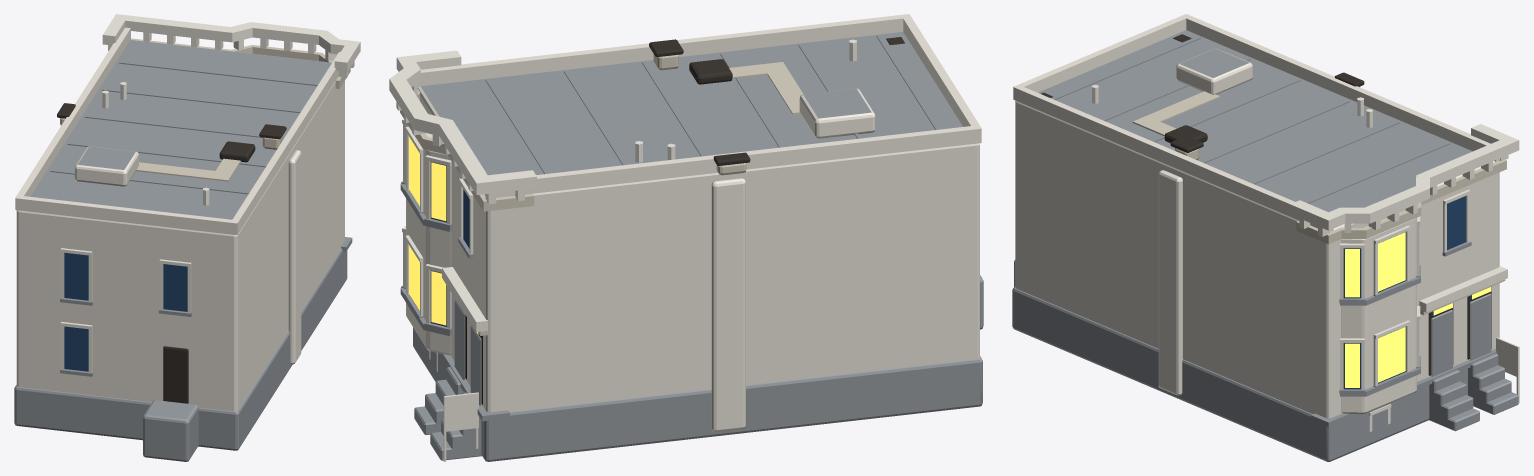
The model's file is mid.glb.
3 views of the same model, side by side, from view 1: azimuth 30°, elevation 25°; view 2: azimuth 150°, elevation 25°; view 3: azimuth 270°, elevation 25° (orthographic). The views are drawn at different scales.
Visible parts, largest first — view 1: grp_Toy_cream_Toy_steel, grp_Toy_steel, grp_Toy_cream, grp_Toy_trim, grp_Toy_glass, grp_Toy_ink, grp_Toy_stone; view 2: grp_Toy_cream_Toy_steel, grp_Toy_steel, grp_Toy_cream, grp_Toy_trim, grp_Toy_stone, grp_Toy_gold_Glow, grp_Toy_ink, grp_Toy_glass; view 3: grp_Toy_cream_Toy_steel, grp_Toy_steel, grp_Toy_cream, grp_Toy_trim, grp_Toy_gold_Glow, grp_Toy_stone, grp_Toy_ink, grp_Toy_glass.
Boxes of the visible parts, x1,y1,x2,y2 form: grp_Toy_cream_Toy_steel: (16,40,344,411); grp_Toy_steel: (14,61,352,461); grp_Toy_cream: (15,27,340,364); grp_Toy_trim: (60,14,360,372); grp_Toy_glass: (64,252,187,371); grp_Toy_ink: (57,103,286,403); grp_Toy_stone: (60,38,350,181); grp_Toy_cream_Toy_steel: (417,32,979,412); grp_Toy_steel: (400,35,983,461); grp_Toy_cream: (406,14,981,432); grp_Toy_trim: (389,39,856,461); grp_Toy_stone: (400,54,803,335); grp_Toy_gold_Glow: (409,137,478,334); grp_Toy_ink: (465,37,904,404); grp_Toy_glass: (416,161,480,336); grp_Toy_cream_Toy_steel: (1015,30,1499,418); grp_Toy_steel: (1012,37,1518,461); grp_Toy_cream: (1013,14,1500,414); grp_Toy_trim: (1092,85,1519,432); grp_Toy_gold_Glow: (1345,232,1491,387); grp_Toy_stone: (1132,86,1506,315); grp_Toy_ink: (1041,34,1491,375); grp_Toy_glass: (1343,196,1471,389).
Size of the model in its own units: 15.82 by 8.6 by 15.82.
